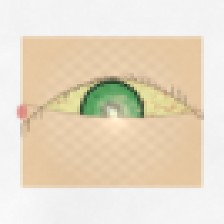corneal_ulcer: (93, 94, 138, 130)
